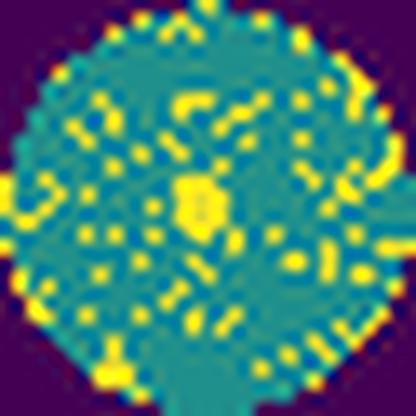Center: (172, 172, 232, 248)
